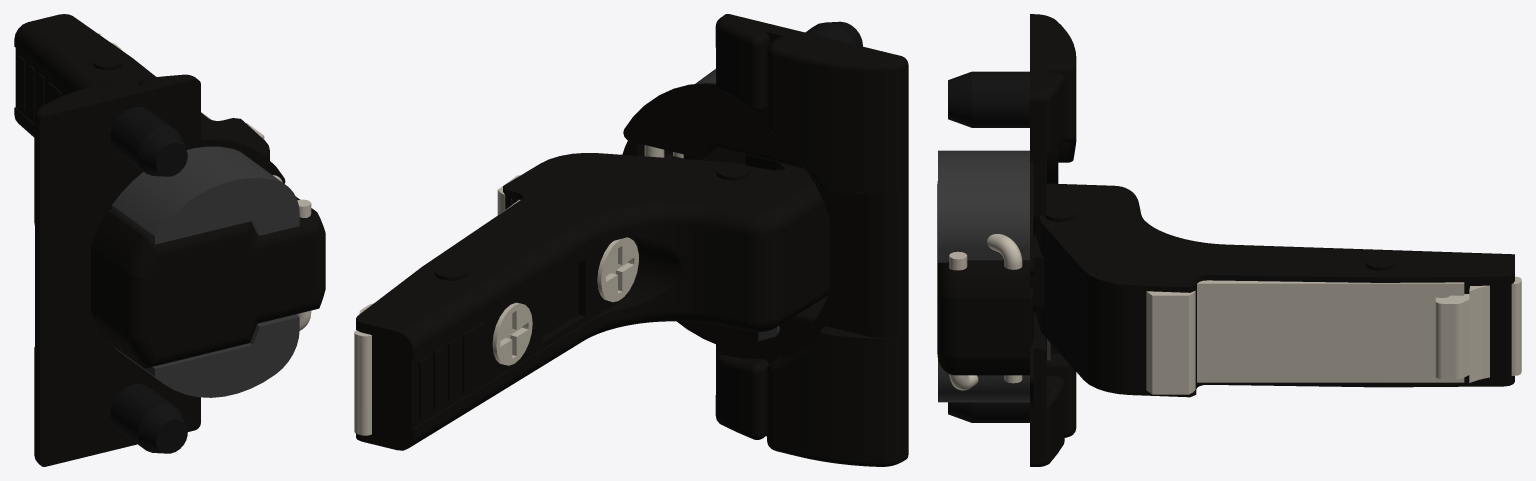
3 renders of one model, left to right at view 1: azimuth 30°, elevation 25°; view 2: azimuth 150°, elevation 25°; view 3: azimuth 270°, elevation 25°, orthographic. The views are drawn at different scales.
Visible parts, largest first — view 1: bau0015157579-1, bau0015113441-1; view 2: bau0015113441-1, bau0015157579-1, bau0019416036-1, bau0015088783-1; view 3: bau0015157579-1, bau0015113441-1, bau0019416036-1, bau0015088853-1.
Part boxes in pixels (box(x1,y1,x2,y2)): bau0015157579-1: box(34, 74, 325, 466); bau0015113441-1: box(14, 14, 269, 160); bau0015113441-1: box(356, 153, 829, 450); bau0015157579-1: box(622, 14, 908, 466); bau0019416036-1: box(354, 175, 520, 435); bau0015088783-1: box(683, 148, 791, 170); bau0015157579-1: box(937, 14, 1076, 466); bau0015113441-1: box(1033, 183, 1514, 397); bau0019416036-1: box(1146, 276, 1521, 394); bau0015088853-1: box(1030, 235, 1044, 346).
Size of the model in its own units: 0.048 by 0.057 by 0.0807.
